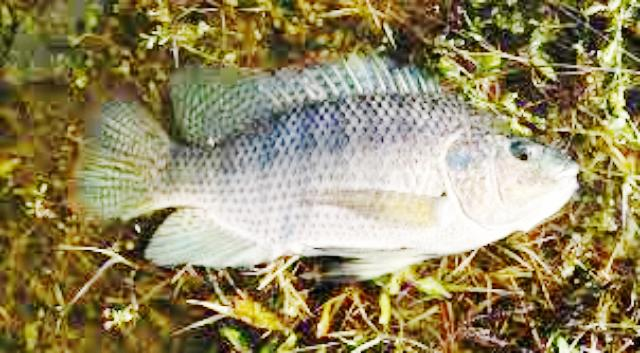Healthy Fish: (78, 57, 579, 284)
